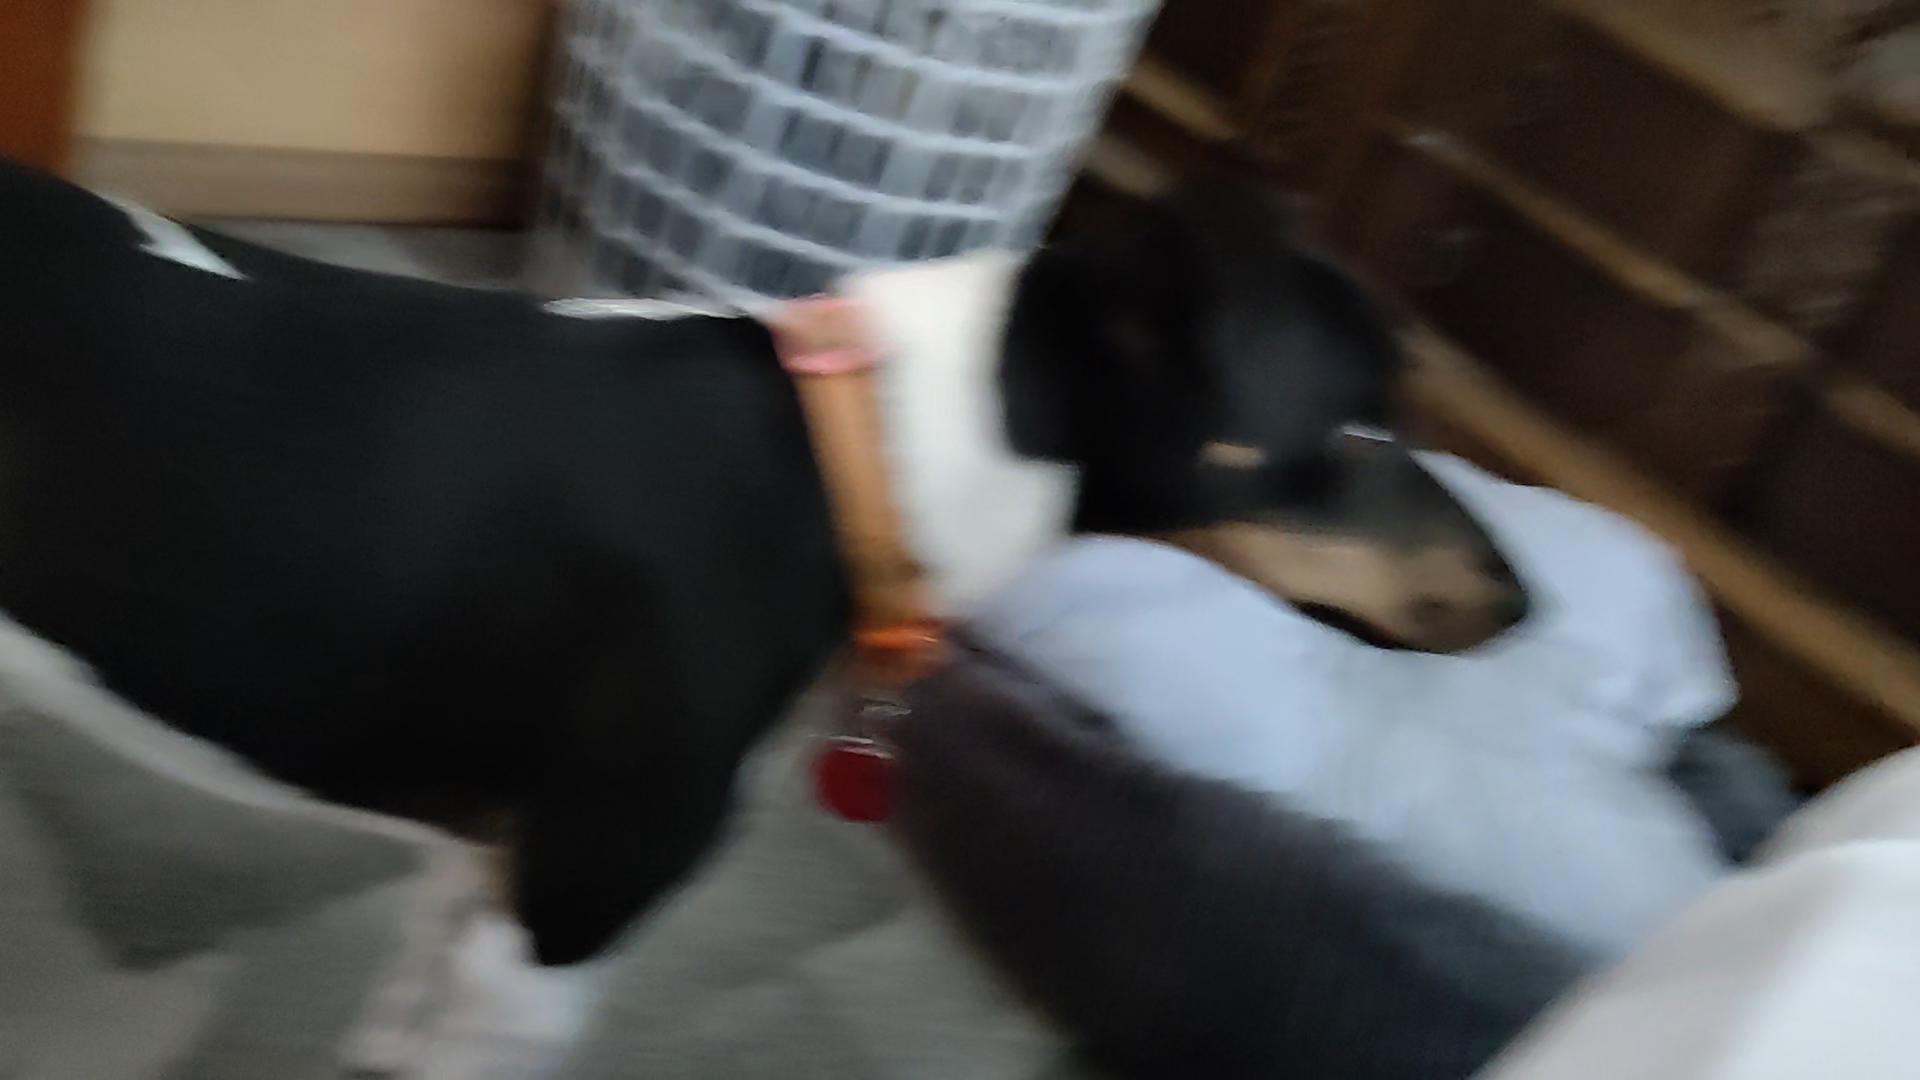Dog: (0, 105, 1557, 1079)
